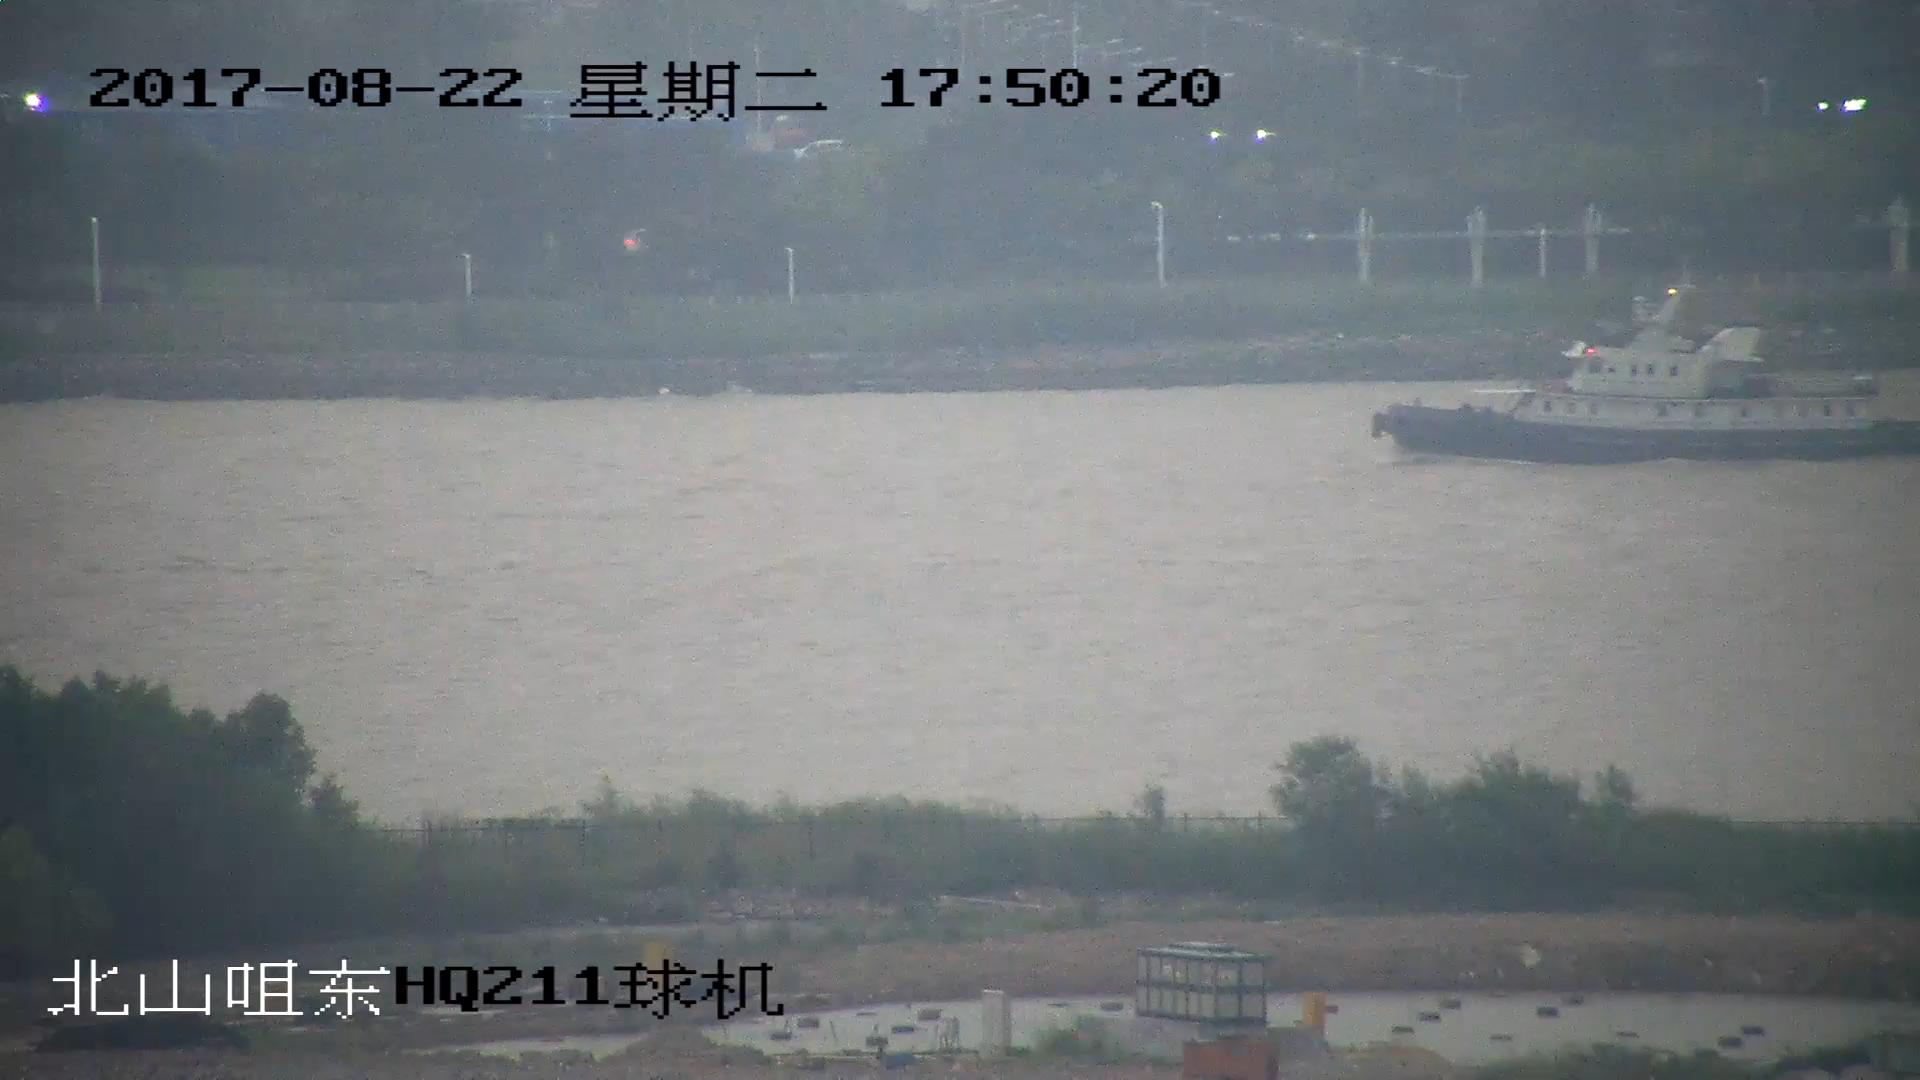passenger ship: (1376, 291, 1920, 458)
